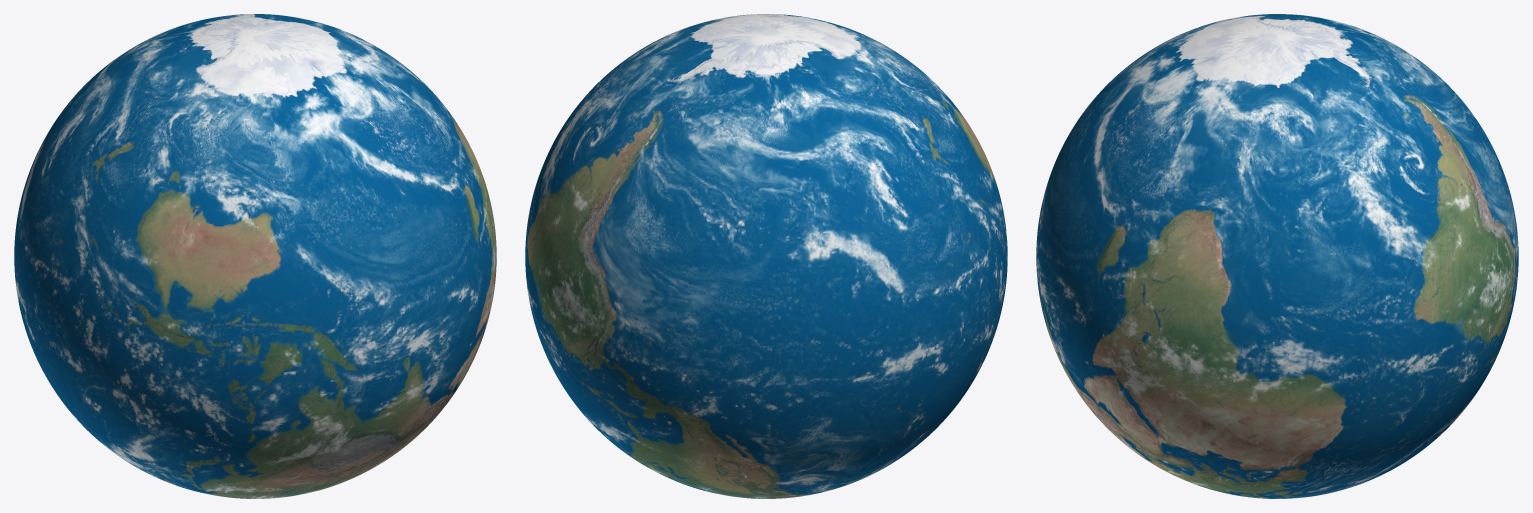
Rendered from earth.gltf.
The picture shows the model from 3 angles, left to right: view 1: azimuth 30°, elevation 25°; view 2: azimuth 150°, elevation 25°; view 3: azimuth 270°, elevation 25°; orthographic projection.
Visible parts, largest first — view 1: Sphere_2; view 2: Sphere_2; view 3: Sphere_2.
Part boxes in pixels (x1,y1,x2,y2): Sphere_2: [14, 14, 496, 498]; Sphere_2: [525, 14, 1007, 498]; Sphere_2: [1036, 14, 1518, 498].
Size of the model in its own units: 2.23 by 2.25 by 2.23.
